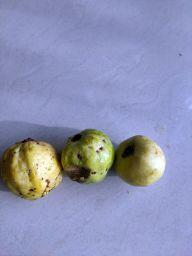guava: (0, 131, 63, 201), (60, 125, 115, 185), (114, 134, 169, 189)
